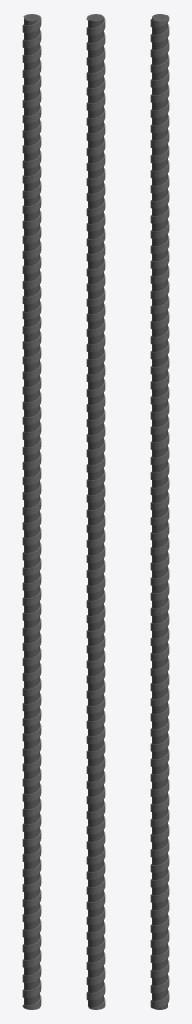
Rendered from tie-rod.glb.
The picture shows the model from 3 angles, left to right: view 1: azimuth 90°, elevation 25°; view 2: azimuth 150°, elevation 25°; view 3: azimuth 330°, elevation 25°; orthographic projection.
Parts seen in each view (by area): view 1: coupling_screw_01; view 2: coupling_screw_01; view 3: coupling_screw_01.
Part boxes in pixels (left/top/right/bottom): coupling_screw_01: left=22, top=14, right=41, bottom=1009; coupling_screw_01: left=86, top=14, right=105, bottom=1009; coupling_screw_01: left=150, top=14, right=169, bottom=1009.
Size of the model in its own units: 0.017 by 1 by 0.017.
1 material, 1 textured.
